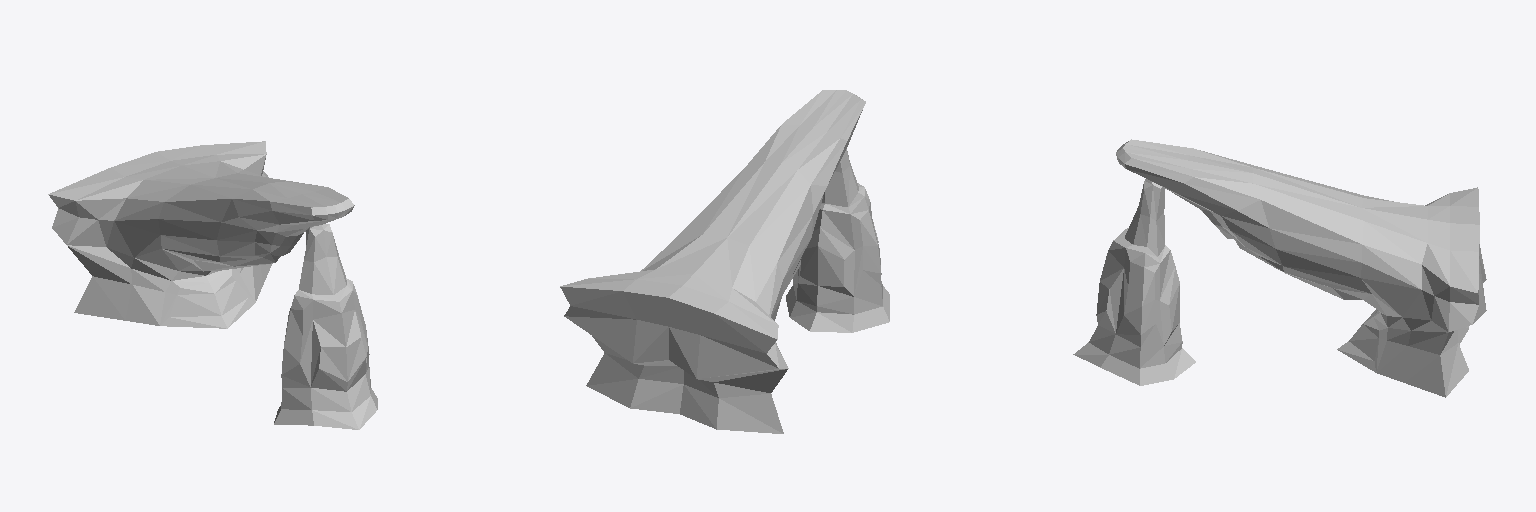
Rendered from cliff.obj.
3 views of the same model, side by side, from view 1: azimuth 30°, elevation 25°; view 2: azimuth 150°, elevation 25°; view 3: azimuth 270°, elevation 25° (orthographic).
Visible parts, largest first — view 1: Cube_Cube.004; view 2: Cube_Cube.004; view 3: Cube_Cube.004.
Part boxes in pixels (left/top/right/bottom): Cube_Cube.004: left=48, top=141, right=377, bottom=429; Cube_Cube.004: left=560, top=90, right=889, bottom=433; Cube_Cube.004: left=1073, top=139, right=1486, bottom=397.
Size of the model in its own units: 7.33 by 6.96 by 12.05.